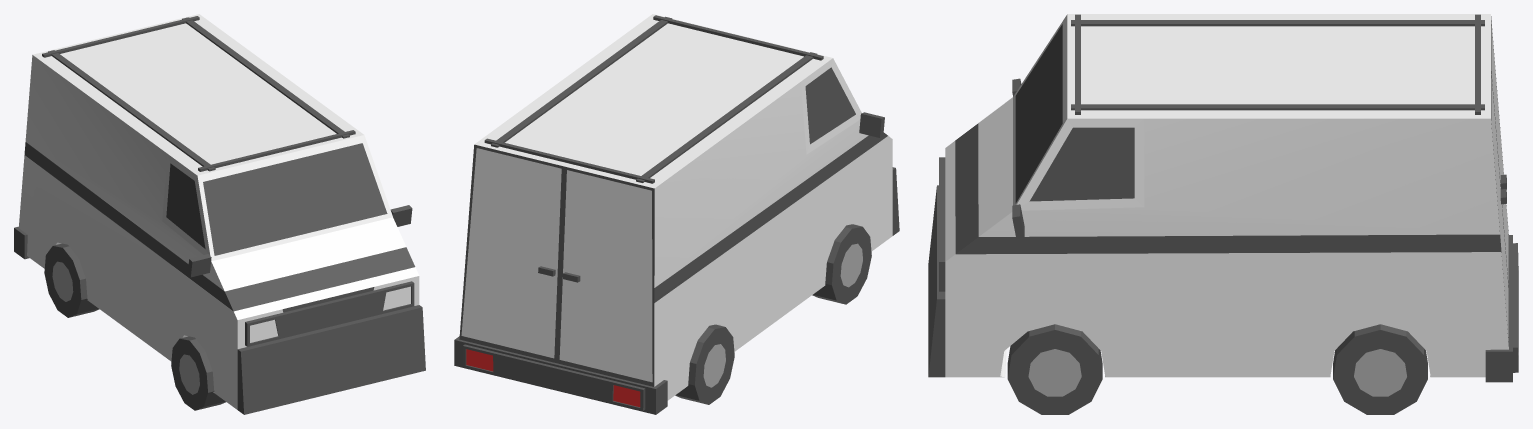
File: SM_Car_04_01.FBX
The picture shows the model from 3 angles, left to right: view 1: azimuth 30°, elevation 25°; view 2: azimuth 150°, elevation 25°; view 3: azimuth 270°, elevation 25°; orthographic projection. The views are drawn at different scales.
Visible parts, largest first — view 1: SM_Car_04_01, SM_Wheel_RBack001, SM_Wheel_LFront002; view 2: SM_Car_04_01, SM_Wheel_RBack001, SM_Wheel_LFront002; view 3: SM_Car_04_01, SM_Wheel_LFront001, SM_Wheel_LBack001.
Part boxes in pixels (x1,y1,x2,y2): SM_Car_04_01: [14, 14, 425, 414]; SM_Wheel_RBack001: [44, 243, 99, 317]; SM_Wheel_LFront002: [171, 336, 225, 410]; SM_Car_04_01: [454, 14, 899, 414]; SM_Wheel_RBack001: [675, 324, 734, 404]; SM_Wheel_LFront002: [812, 224, 871, 304]; SM_Car_04_01: [928, 14, 1518, 382]; SM_Wheel_LFront001: [1007, 324, 1102, 414]; SM_Wheel_LBack001: [1333, 324, 1427, 414].
Size of the model in its own units: 1.7 by 1.68 by 3.08.
Materials: 1 (1 with a texture image).
